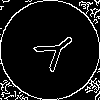Y: (25, 25, 82, 79)
